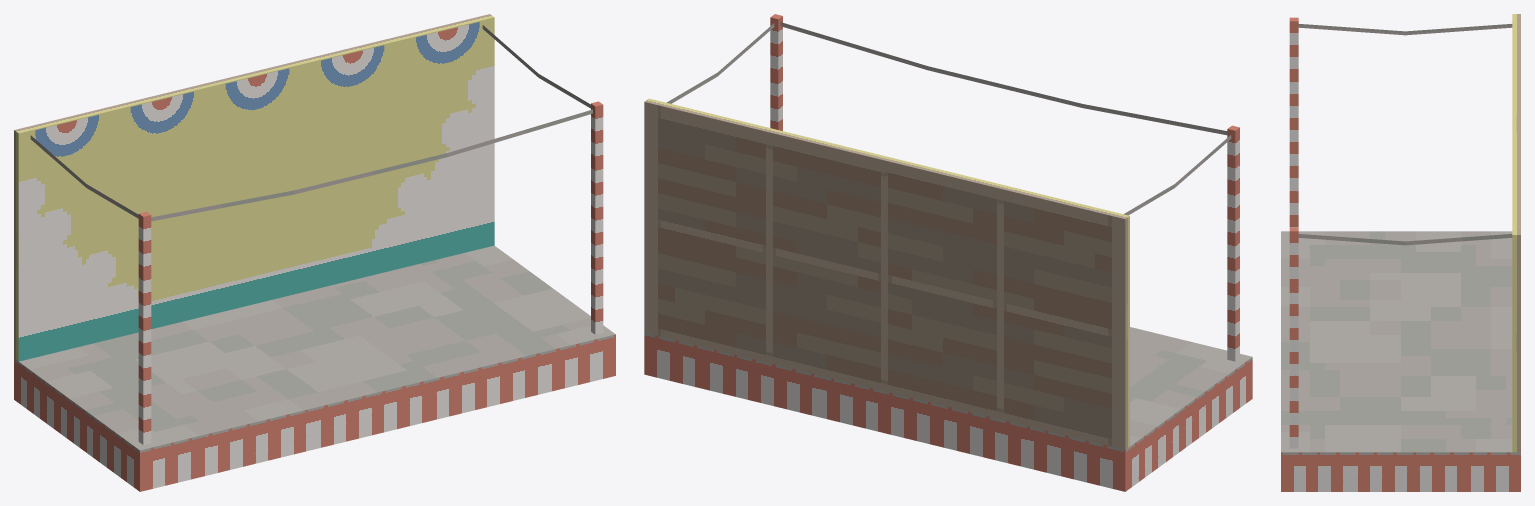
Rendered from 00ce_Matsuri_Stage.glb.
3 renders of one model, left to right at view 1: azimuth 30°, elevation 25°; view 2: azimuth 150°, elevation 25°; view 3: azimuth 270°, elevation 25°, orthographic. The views are drawn at different scales.
Parts seen in each view (by area): view 1: part_0; view 2: part_0; view 3: part_0.
Part boxes in pixels (bbox=[...]): part_0: bbox=[14, 14, 615, 491]; part_0: bbox=[644, 14, 1252, 491]; part_0: bbox=[1281, 14, 1520, 491].
Size of the model in its own units: 6 by 3.25 by 2.75.
Materials: 1 (1 with a texture image).
